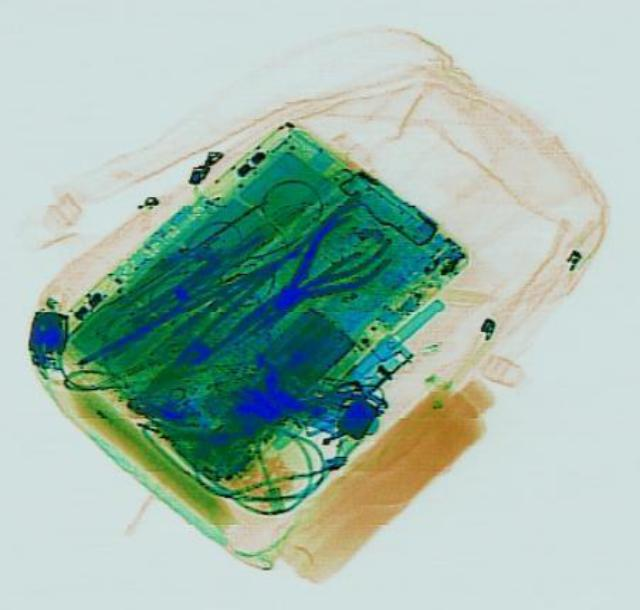Pliers: (190, 206, 396, 372), (222, 199, 394, 347)
